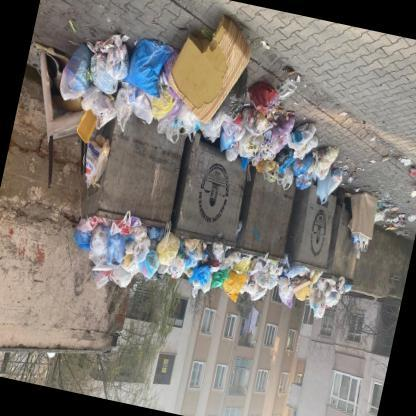Garbage: (63, 214, 194, 304), (72, 50, 166, 121), (256, 120, 344, 194), (186, 234, 265, 302), (110, 32, 180, 106), (256, 257, 334, 320), (241, 82, 286, 166), (290, 264, 354, 316)
